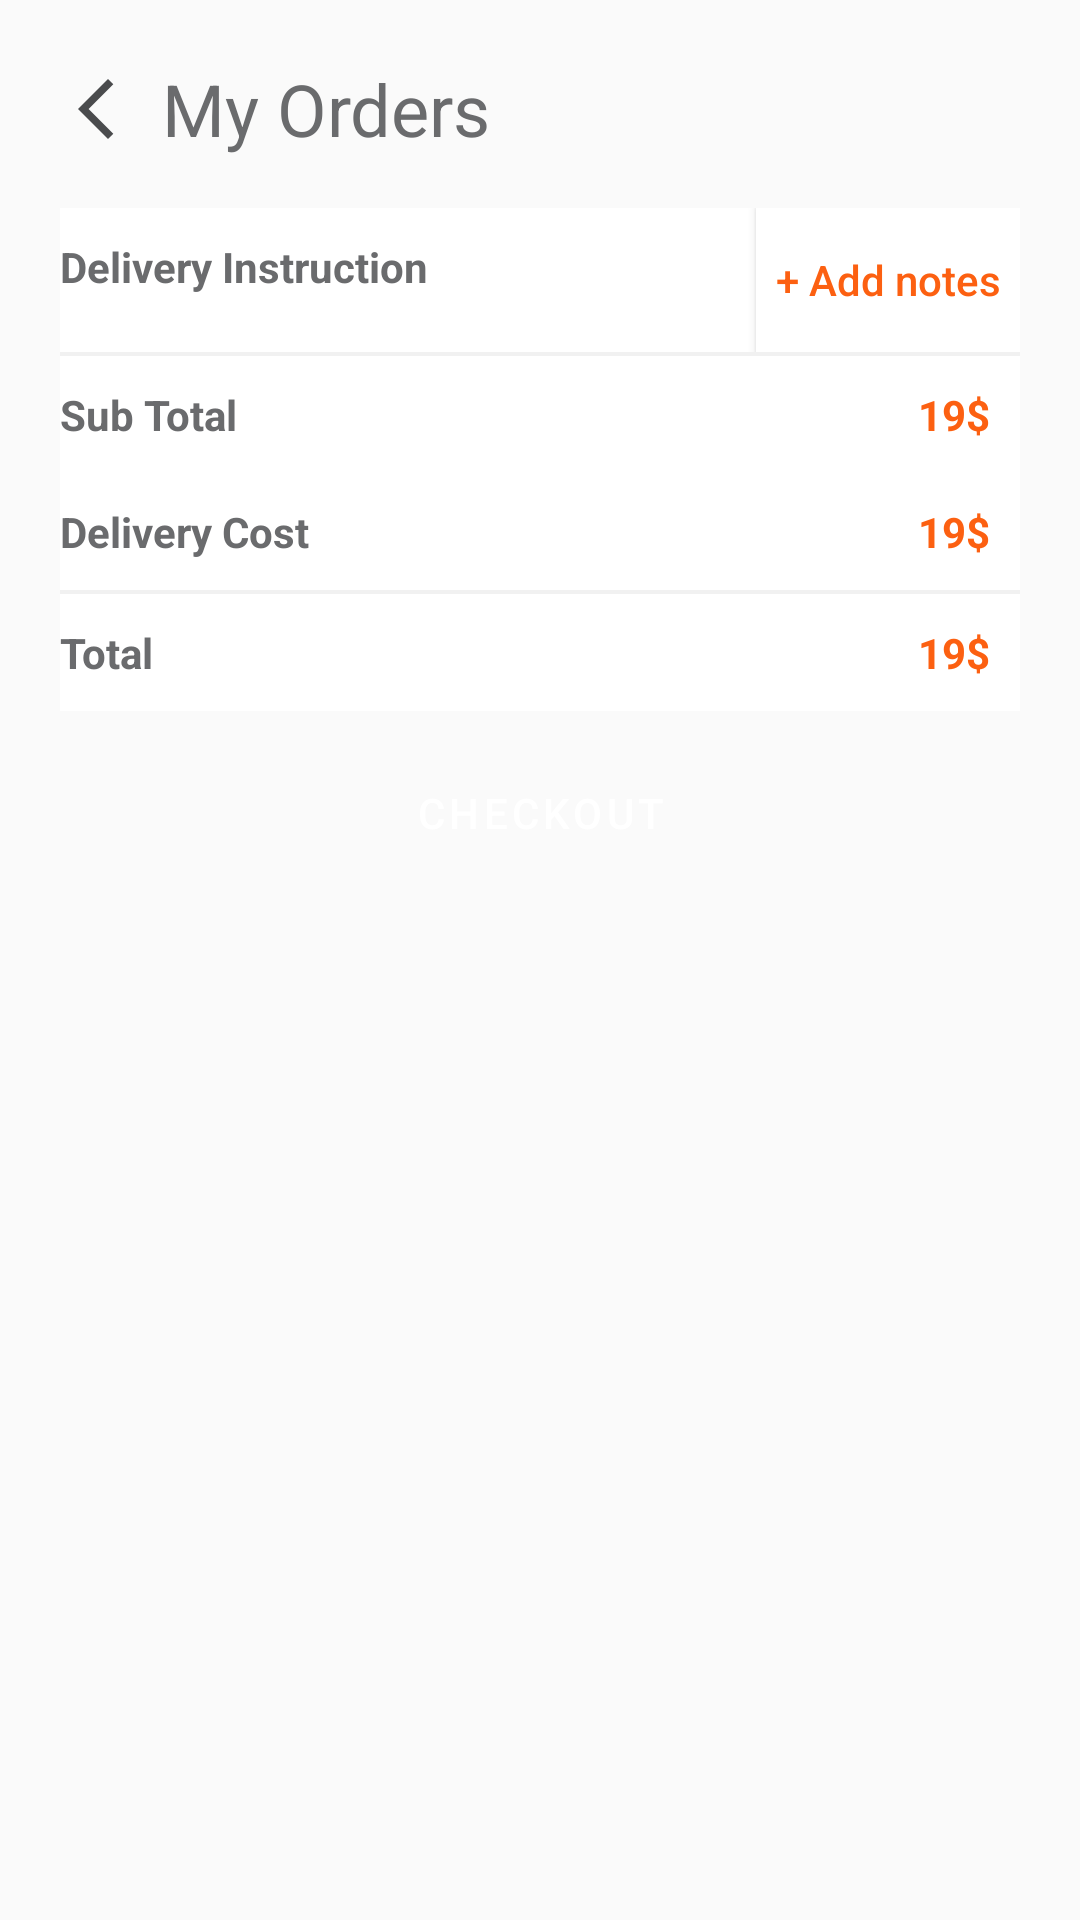

Point at icon controls on the screen. Image size 1080x1920, points as (x,y).
back: (95,109)
